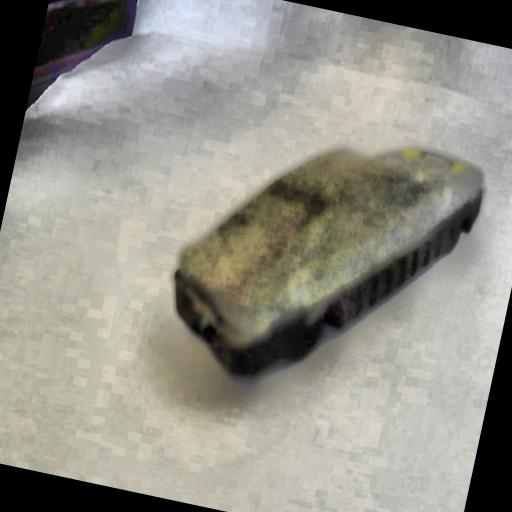normal_car: (150, 101, 489, 422)
